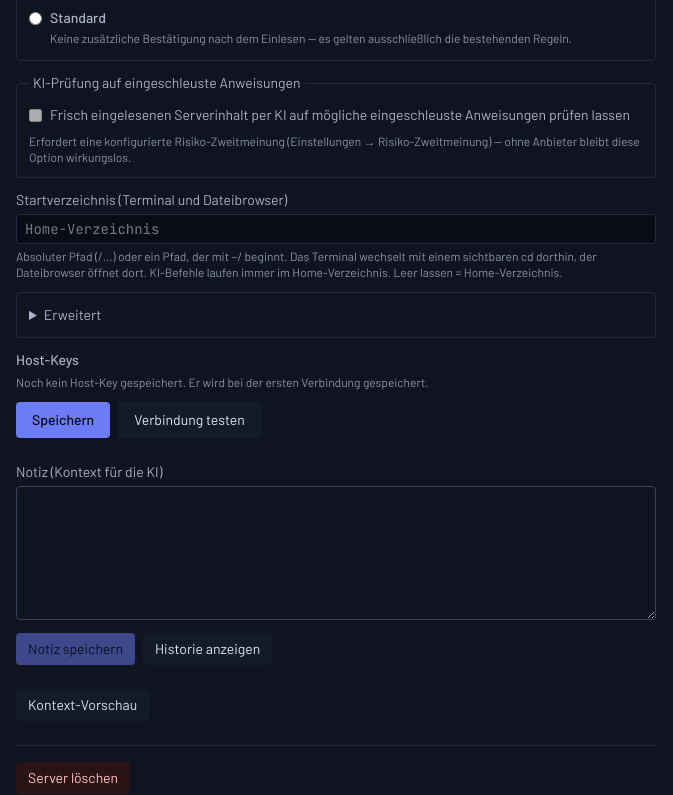
Scenario: ServerForm — Verbindungstest ohne Schlüsseldatei-Pfad (issue #254) › shows the translated message, not the raw code or backend text
(page scrolled)
Click the button "Verbindung testen": [190, 420] box 118,402 -> 261,438
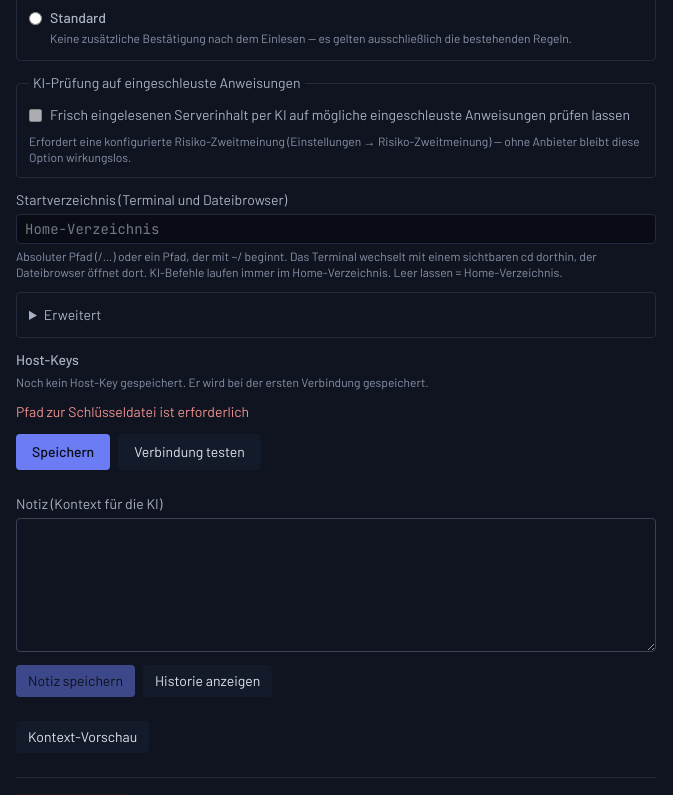
Expected: the text "Pfad zur Schlüsseldatei ist erforderlich" is shown, 16,403 -> 249,420
